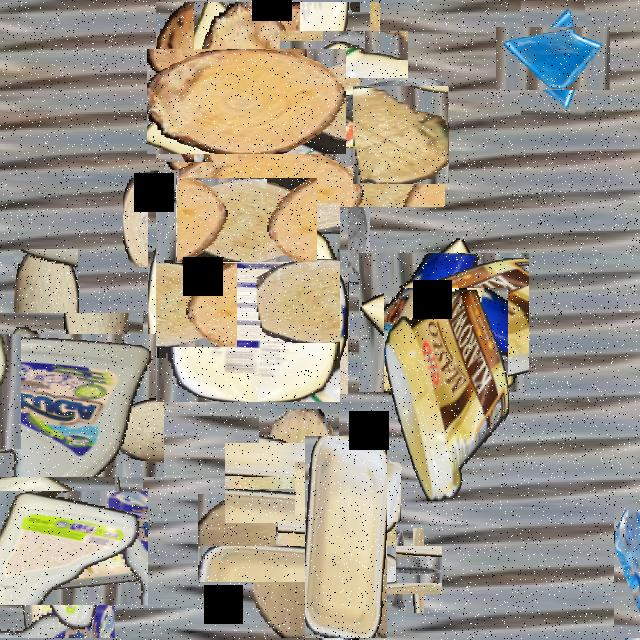glass: (294, 16, 394, 116), (508, 14, 598, 103), (614, 510, 640, 638)
metal: (306, 451, 390, 534), (367, 537, 433, 604)
plastic: (202, 39, 408, 245), (152, 206, 344, 398), (384, 288, 508, 501), (0, 323, 153, 487), (366, 244, 522, 400), (0, 473, 131, 621), (305, 436, 387, 638), (11, 386, 77, 602)
wood: (171, 25, 323, 178), (225, 467, 369, 610), (156, 2, 238, 162), (242, 426, 356, 541), (190, 164, 302, 277), (352, 86, 448, 184), (14, 249, 78, 363), (123, 170, 179, 266)
